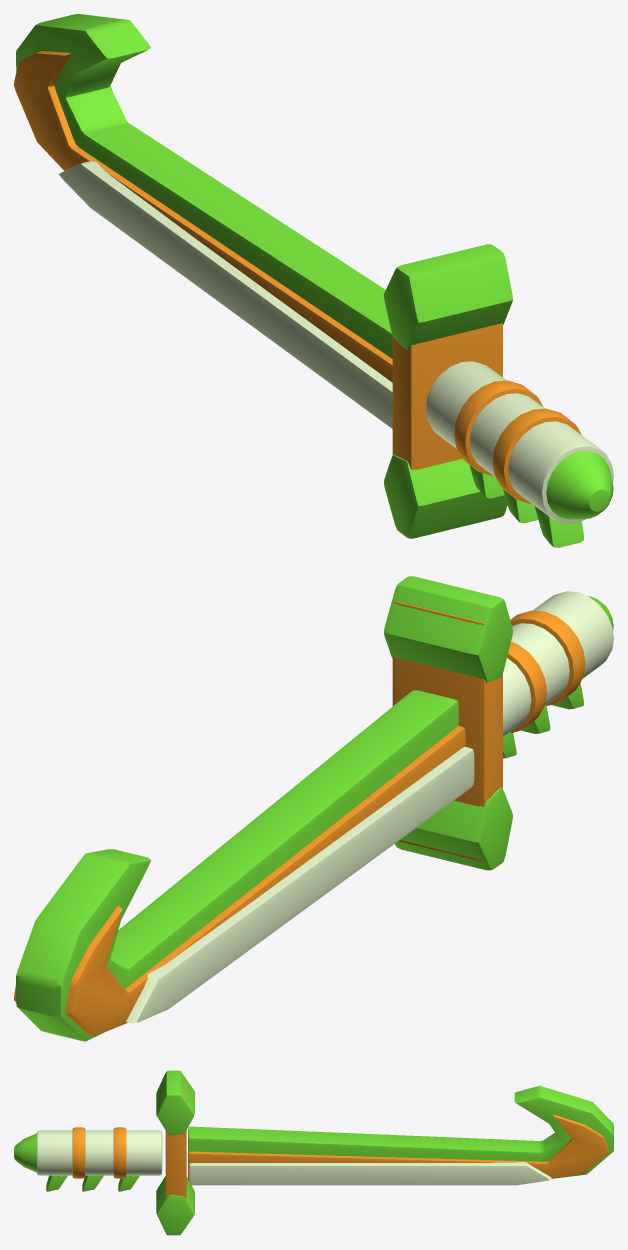
The model's file is Sword_BriarBillhook.glb.
3 views of the same model, one above another, from view 1: azimuth 30°, elevation 25°; view 2: azimuth 150°, elevation 25°; view 3: azimuth 270°, elevation 25° (orthographic). The views are drawn at different scales.
Visible parts, largest first — view 1: Sword_BriarBillhook; view 2: Sword_BriarBillhook; view 3: Sword_BriarBillhook.
Part boxes in pixels (bbox=[...]): Sword_BriarBillhook: bbox=[14, 14, 613, 547]; Sword_BriarBillhook: bbox=[14, 576, 613, 1041]; Sword_BriarBillhook: bbox=[14, 1070, 613, 1235].
Bounding box in the file's own units: 0.1 × 0.26 × 1.
1 material, 1 textured.
